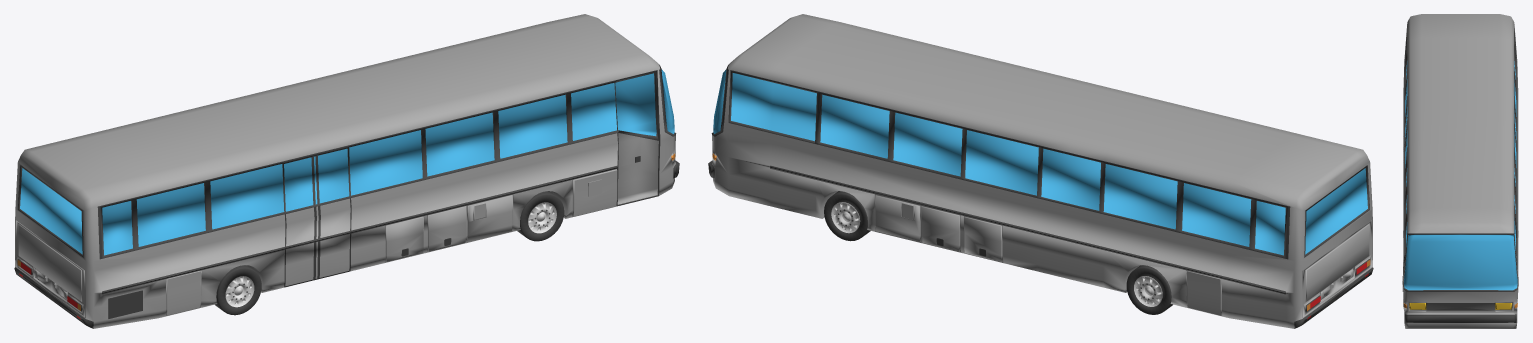
File: bus3.glb
The picture shows the model from 3 angles, left to right: view 1: azimuth 30°, elevation 25°; view 2: azimuth 150°, elevation 25°; view 3: azimuth 270°, elevation 25°; orthographic projection. The views are drawn at different scales.
Visible parts, largest first — view 1: Bus_Body, wheelRR, wheelFR; view 2: Bus_Body, wheelLR, wheelFL; view 3: Bus_Body.
Part boxes in pixels (x1=…): Bus_Body: x1=14, y1=14, x2=679, y2=328; wheelRR: x1=215, y1=265, x2=261, y2=315; wheelFR: x1=517, y1=191, x2=564, y2=241; Bus_Body: x1=708, y1=14, x2=1373, y2=328; wheelLR: x1=1126, y1=265, x2=1172, y2=314; wheelFL: x1=824, y1=191, x2=870, y2=241; Bus_Body: x1=1402, y1=14, x2=1518, y2=328.
Size of the model in its own units: 9.55 by 2.35 by 2.12.
